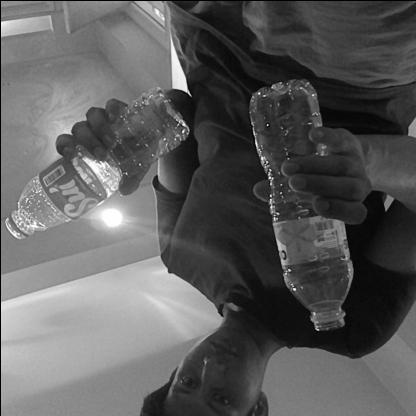plastic_bottles: (4, 86, 188, 243), (244, 78, 353, 334)
